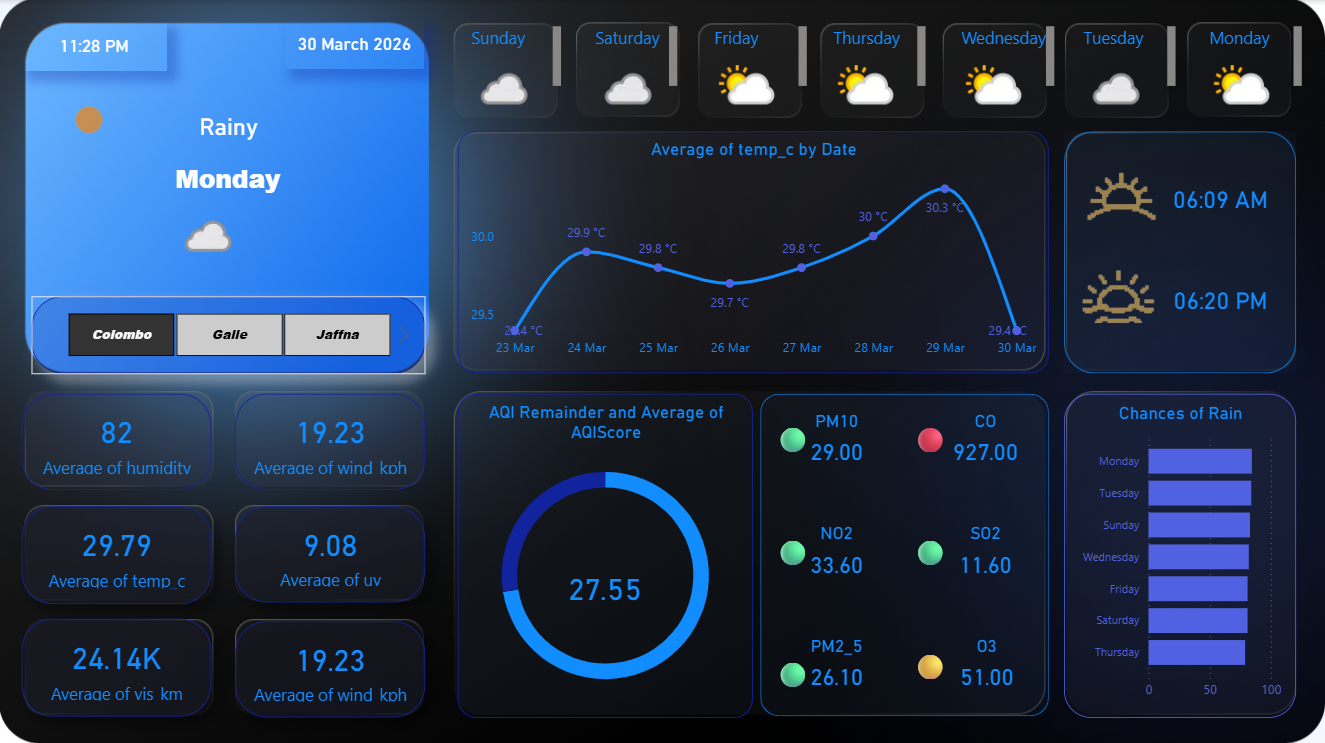

What the dashboard file says about the page in this screenshot:
{"tool":"powerbi","page":{"name":"Page 1","canvas":[1280,720],"ordinal":0},"visuals":[{"type":"card","fields":{"Values":["Avg(Query1.humidity)"]},"box":[21.7,380,183.4,92.9],"z":0},{"type":"card","fields":{"Values":["Avg(Query1.temp_c)"]},"box":[21.7,488.6,183.4,94.1],"z":1000},{"type":"card","fields":{"Values":["Avg(Query1.wind_kph)"]},"box":[228,380,183.4,92.9],"z":2000},{"type":"card","fields":{"Values":["Avg(Query1.uv)"]},"box":[228,488.6,183.4,92.9],"z":3000},{"type":"card","fields":{"Values":["Avg(Query1.wind_kph)"]},"box":[228,599.6,183.4,92.9],"z":4000},{"type":"card","fields":{"Values":["Avg(Query1.vis_km)"]},"box":[21.7,597.2,183.4,94.1],"z":5000},{"type":"slicer","fields":{"Values":["Query1.City"]},"box":[31.4,285.9,380,74.8],"z":6000},{"type":"multiRowCard","fields":{"Values":["Query1.DayName","Query1.IconURL","Avg(Query1.temp_c)"]},"box":[451.1,20.6,96.3,97.6],"z":7000},{"type":"multiRowCard","fields":{"Values":["Query1.DayName","Query1.IconURL","Avg(Query1.temp_c)"]},"box":[570.7,20.6,89.4,97.6],"z":8000},{"type":"multiRowCard","fields":{"Values":["Query1.DayName","Query1.IconURL","Avg(Query1.temp_c)"]},"box":[684.8,20.6,99,97.6],"z":9000},{"type":"multiRowCard","fields":{"Values":["Query1.DayName","Query1.IconURL","Avg(Query1.temp_c)"]},"box":[800.3,20.6,99,97.6],"z":10000},{"type":"multiRowCard","fields":{"Values":["Query1.DayName","Query1.IconURL","Avg(Query1.temp_c)"]},"box":[924.1,20.6,99,97.6],"z":11000},{"type":"multiRowCard","fields":{"Values":["Query1.DayName","Query1.IconURL","Avg(Query1.temp_c)"]},"box":[1041,20.6,99,97.6],"z":12000},{"type":"multiRowCard","fields":{"Values":["Query1.DayName","Query1.IconURL","Avg(Query1.temp_c)"]},"box":[1163.4,20.6,99,97.6],"z":13000},{"type":"lineChart","fields":{"Category":["Query1.Date"],"Y":["Avg(Query1.temp_c)"]},"box":[442.4,126.6,570.4,233.7],"z":14000},{"type":"card","fields":{"Values":["ForecastTable.Live Time"]},"box":[21.7,21.7,140.7,47.4],"z":15000},{"type":"card","fields":{"Values":["ForecastTable.Live Date"]},"box":[276.1,20.3,134,46],"z":16000},{"type":"multiRowCard","fields":{"Values":["Query1.DayName","Query1.IconURL"]},"box":[165.3,150.8,112.2,125.5],"z":17000},{"type":"clusteredBarChart","title":"Chances of Rain","fields":{"Category":["Query1.DayName"],"Y":["Avg(Query1.humidity)"]},"box":[1028.2,379.8,224,313],"z":18000},{"type":"shape","box":[1028.2,126.6,224,233.7],"z":19000},{"type":"image","box":[1013.7,150.2,138,83.9],"z":20000},{"type":"image","box":[1013.7,247.7,138,83.9],"z":21000},{"type":"card","fields":{"Values":["Min(Query1.Sunrise)"]},"box":[1117.9,158.3,121.8,67.7],"z":22000},{"type":"card","fields":{"Values":["Min(Query1.Sunset)"]},"box":[1117.9,255.8,121.8,67.7],"z":23000},{"type":"donutChart","fields":{"Y":["Query1.AQI Remainder","Avg(Query1.AQIScore)"]},"box":[442.8,380,284.7,312.5],"z":24000},{"type":"card","fields":{"Values":["Avg(Query1.AQIScore)"]},"box":[516.4,520,137.5,94.1],"z":25000},{"type":"card","title":"CO","fields":{"Values":["Avg(Query1.CO)"]},"box":[910.8,395.2,82.6,62.3],"z":26000},{"type":"card","fields":{"Values":["ForecastTable.CO Dot"]},"box":[877,403.3,44.7,46],"z":27000},{"type":"card","fields":{"Values":["ForecastTable.PM10 Dot"]},"box":[744.3,403.3,44.7,46],"z":28000},{"type":"card","title":"NO2","fields":{"Values":["Avg(Query1.NO2)"]},"box":[767.4,504.8,82.6,62.3],"z":29000},{"type":"card","title":"PM2_5","fields":{"Values":["Avg(Query1.PM2_5)"]},"box":[767.4,613.1,82.6,62.3],"z":30000},{"type":"card","title":"SO2","fields":{"Values":["Avg(Query1.SO2)"]},"box":[910.8,504.8,82.6,62.3],"z":31000},{"type":"card","title":"O3","fields":{"Values":["Sum(Query1.O3)"]},"box":[912.2,613.1,82.6,62.3],"z":32000},{"type":"card","title":"PM10","fields":{"Values":["Avg(Query1.PM10)"]},"box":[767.4,395.2,82.6,62.3],"z":33000},{"type":"card","fields":{"Values":["ForecastTable.O3 Dot"]},"box":[877,621.2,44.7,46],"z":34000},{"type":"card","fields":{"Values":["ForecastTable.PM2.5 Dot"]},"box":[744.3,629.3,44.7,46],"z":35000},{"type":"card","fields":{"Values":["ForecastTable.SO2 Dot"]},"box":[877,511.6,44.7,46],"z":36000},{"type":"card","fields":{"Values":["ForecastTable.NO2 Dot"]},"box":[744.3,511.6,44.7,46],"z":37000},{"type":"shape","box":[734.7,380,278.7,311.3],"z":38000},{"type":"card","fields":{"Values":["Min(Query1.Status)"]},"box":[125.5,68.8,193,106.2],"z":39000},{"type":"image","box":[22.3,66.8,130.8,98.8],"z":40000}]}

Visuals, with their boxes in screenshot pixels (x1, y1, x2, y2), scaled from the page's 1280x720 canvas onto the 1325x743 screenshot:
card - Avg(Query1.humidity): box(22, 392, 212, 488)
card - Avg(Query1.temp_c): box(22, 504, 212, 601)
card - Avg(Query1.wind_kph): box(236, 392, 426, 488)
card - Avg(Query1.uv): box(236, 504, 426, 600)
card - Avg(Query1.wind_kph): box(236, 619, 426, 715)
card - Avg(Query1.vis_km): box(22, 616, 212, 713)
slicer - Query1.City: box(33, 295, 426, 372)
multiRowCard - Query1.DayName x Query1.IconURL: box(467, 21, 567, 122)
multiRowCard - Query1.DayName x Query1.IconURL: box(591, 21, 683, 122)
multiRowCard - Query1.DayName x Query1.IconURL: box(709, 21, 811, 122)
multiRowCard - Query1.DayName x Query1.IconURL: box(828, 21, 931, 122)
multiRowCard - Query1.DayName x Query1.IconURL: box(957, 21, 1059, 122)
multiRowCard - Query1.DayName x Query1.IconURL: box(1078, 21, 1180, 122)
multiRowCard - Query1.DayName x Query1.IconURL: box(1204, 21, 1307, 122)
lineChart - Query1.Date x Avg(Query1.temp_c): box(458, 131, 1048, 372)
card - ForecastTable.Live Time: box(22, 22, 168, 71)
card - ForecastTable.Live Date: box(286, 21, 425, 68)
multiRowCard - Query1.DayName x Query1.IconURL: box(171, 156, 287, 285)
"Chances of Rain" clusteredBarChart: box(1064, 392, 1296, 715)
shape: box(1064, 131, 1296, 372)
image: box(1049, 155, 1192, 242)
image: box(1049, 256, 1192, 342)
card - Min(Query1.Sunrise): box(1157, 163, 1283, 233)
card - Min(Query1.Sunset): box(1157, 264, 1283, 334)
donutChart - Query1.AQI Remainder x Avg(Query1.AQIScore): box(458, 392, 753, 715)
card - Avg(Query1.AQIScore): box(535, 537, 677, 634)
"CO" card: box(943, 408, 1028, 472)
card - ForecastTable.CO Dot: box(908, 416, 954, 464)
card - ForecastTable.PM10 Dot: box(770, 416, 817, 464)
"NO2" card: box(794, 521, 880, 585)
"PM2_5" card: box(794, 633, 880, 697)
"SO2" card: box(943, 521, 1028, 585)
"O3" card: box(944, 633, 1030, 697)
"PM10" card: box(794, 408, 880, 472)
card - ForecastTable.O3 Dot: box(908, 641, 954, 689)
card - ForecastTable.PM2.5 Dot: box(770, 649, 817, 697)
card - ForecastTable.SO2 Dot: box(908, 528, 954, 575)
card - ForecastTable.NO2 Dot: box(770, 528, 817, 575)
shape: box(761, 392, 1049, 713)
card - Min(Query1.Status): box(130, 71, 330, 181)
image: box(23, 69, 158, 171)
